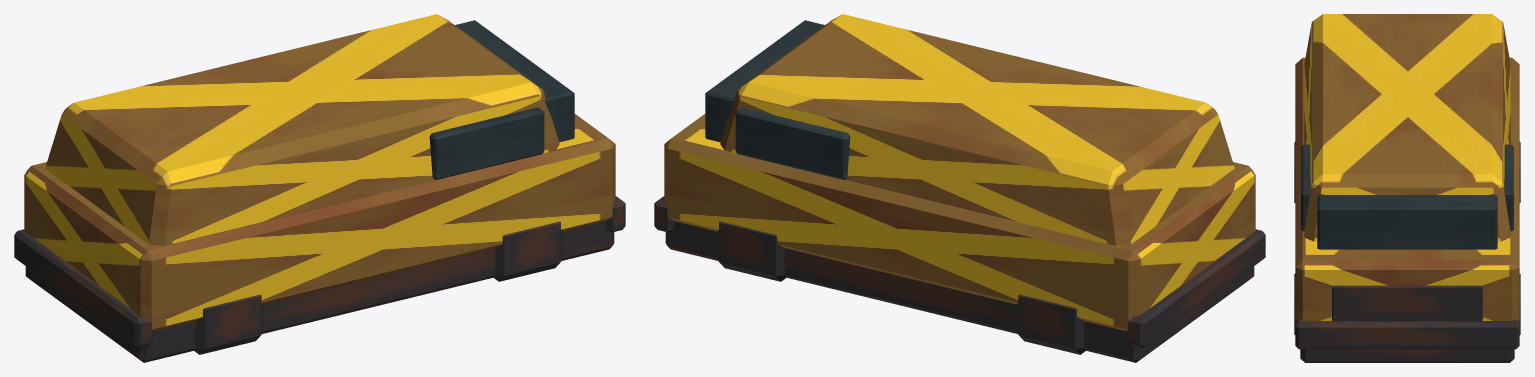
Rendered from car-weak-van.glb.
The picture shows the model from 3 angles, left to right: view 1: azimuth 30°, elevation 25°; view 2: azimuth 150°, elevation 25°; view 3: azimuth 270°, elevation 25°; orthographic projection. The views are drawn at different scales.
Visible parts, largest first — view 1: car_weak_van; view 2: car_weak_van; view 3: car_weak_van.
Part boxes in pixels (x1=…): car_weak_van: x1=14, y1=14, x2=625, y2=362; car_weak_van: x1=654, y1=14, x2=1265, y2=362; car_weak_van: x1=1294, y1=14, x2=1520, y2=362.
Bounding box in the file's own units: 4.2 × 1.48 × 1.86.
1 material, 1 textured.
